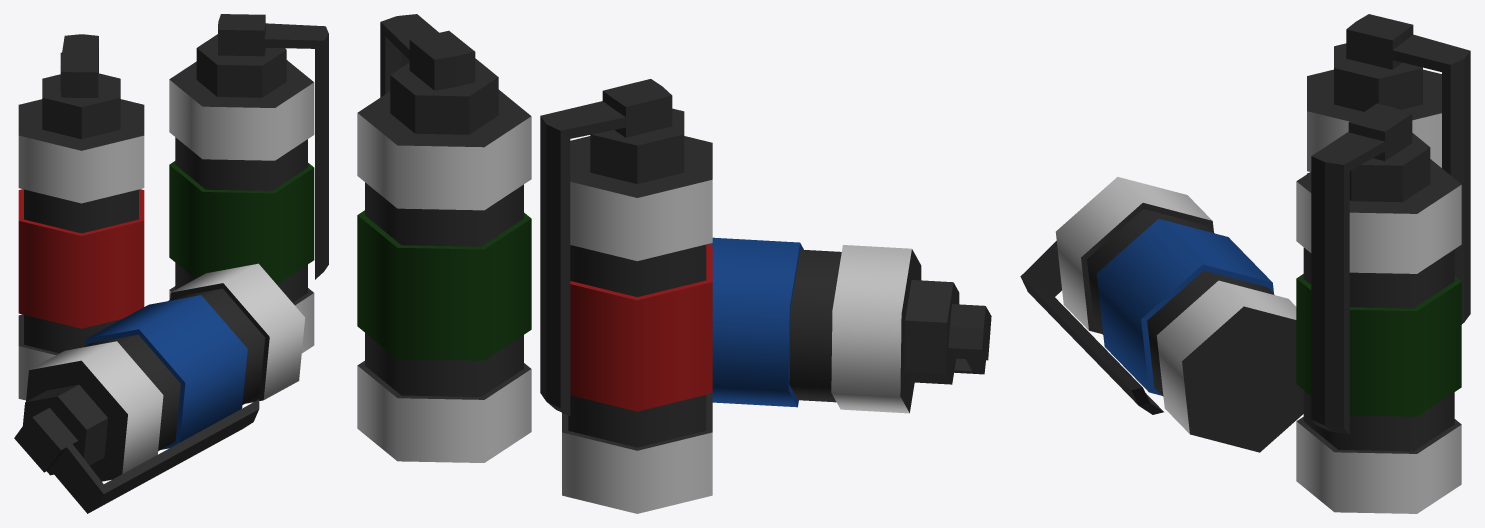
The model's file is Grenade.FBX.
3 renders of one model, left to right at view 1: azimuth 30°, elevation 25°; view 2: azimuth 150°, elevation 25°; view 3: azimuth 270°, elevation 25°, orthographic. The views are drawn at different scales.
Parts seen in each view (by area): view 1: Cylinder003, Cylinder002, Cylinder001; view 2: Cylinder002, Cylinder001, Cylinder003; view 3: Cylinder002, Cylinder003, Cylinder001.
Part boxes in pixels (x1=…): Cylinder003: x1=14, y1=263, x2=305, y2=513; Cylinder002: x1=169, y1=14, x2=328, y2=353; Cylinder001: x1=18, y1=34, x2=144, y2=400; Cylinder002: x1=357, y1=14, x2=531, y2=462; Cylinder001: x1=540, y1=79, x2=712, y2=513; Cylinder003: x1=708, y1=237, x2=991, y2=413; Cylinder002: x1=1296, y1=103, x2=1461, y2=513; Cylinder003: x1=1020, y1=177, x2=1303, y2=452; Cylinder001: x1=1307, y1=14, x2=1470, y2=324.
Size of the model in its own units: 19.4 by 14.63 by 16.32.
